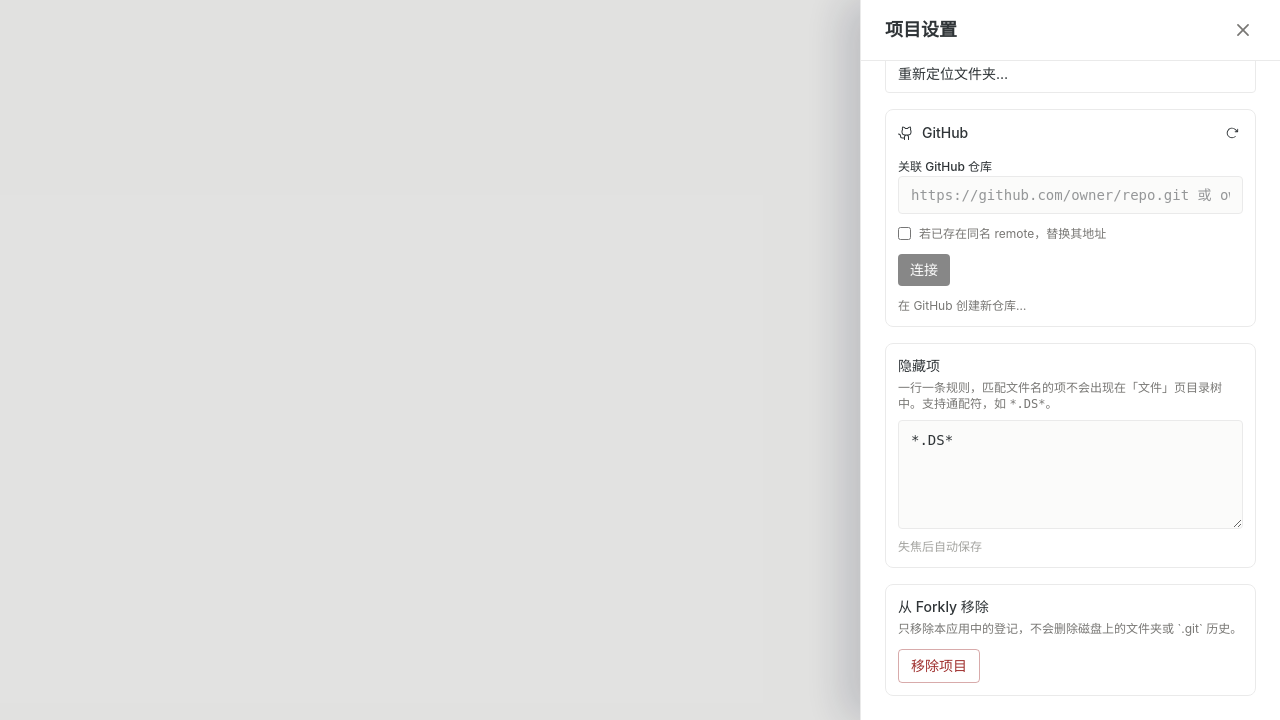
Test: ProjectSettingsDrawer › two-step remove still works
(page scrolled)
Click the button "移除项目" at {"x": 939, "y": 666}, box top-left (898, 649), bottom-right (980, 683)
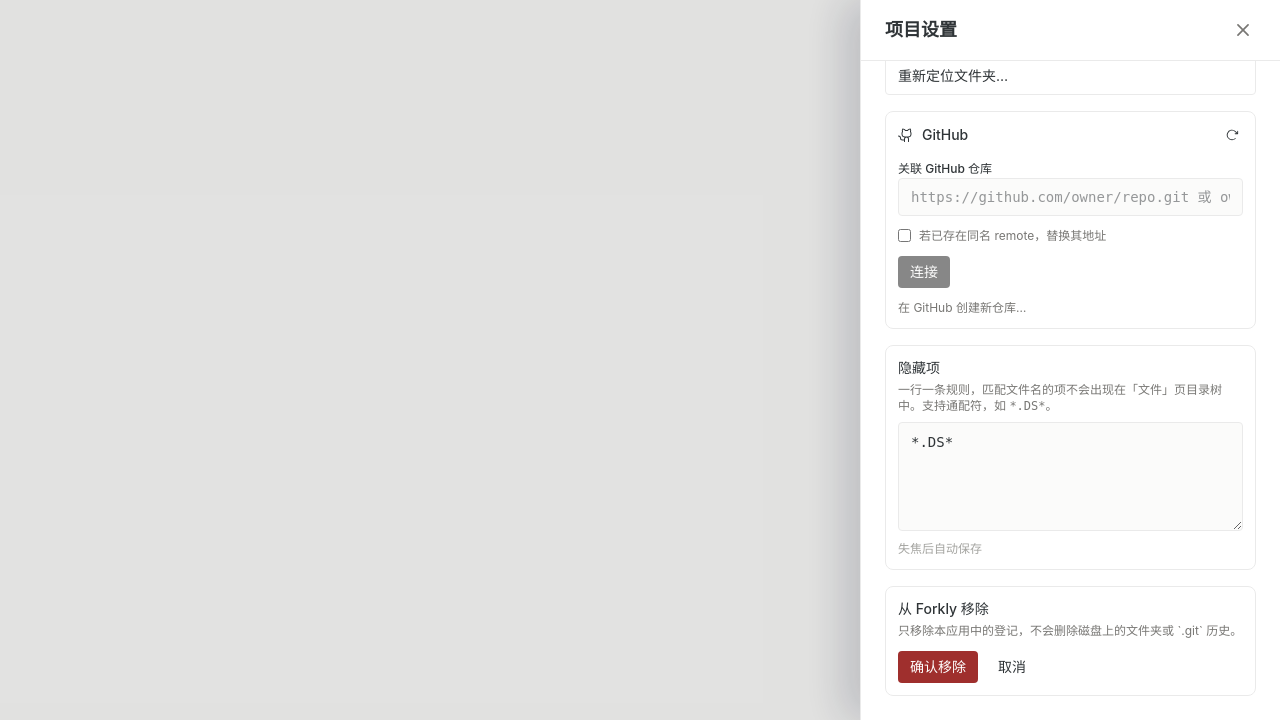
Check: the button "确认移除" is shown, box top-left (898, 651), bottom-right (978, 683)
Check: the button "取消" is shown, box top-left (986, 651), bottom-right (1038, 683)
